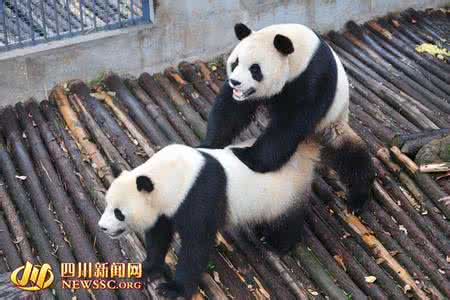panda: (76, 141, 338, 299), (210, 22, 374, 215)
